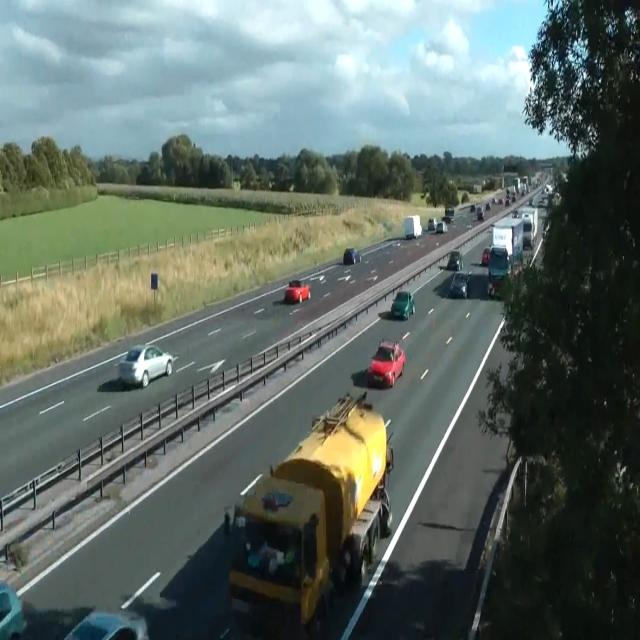bus: (118, 343, 174, 389), (64, 610, 150, 639), (367, 338, 405, 388), (0, 581, 26, 639), (390, 290, 414, 320), (284, 279, 310, 303), (449, 270, 471, 298), (343, 247, 361, 264), (447, 250, 462, 270), (481, 247, 490, 265), (445, 206, 454, 218), (469, 204, 475, 212), (486, 202, 490, 210)
car: (224, 389, 394, 627)
jeep: (487, 245, 510, 298)
minibus: (491, 216, 523, 265), (512, 205, 538, 248), (403, 215, 422, 239)
